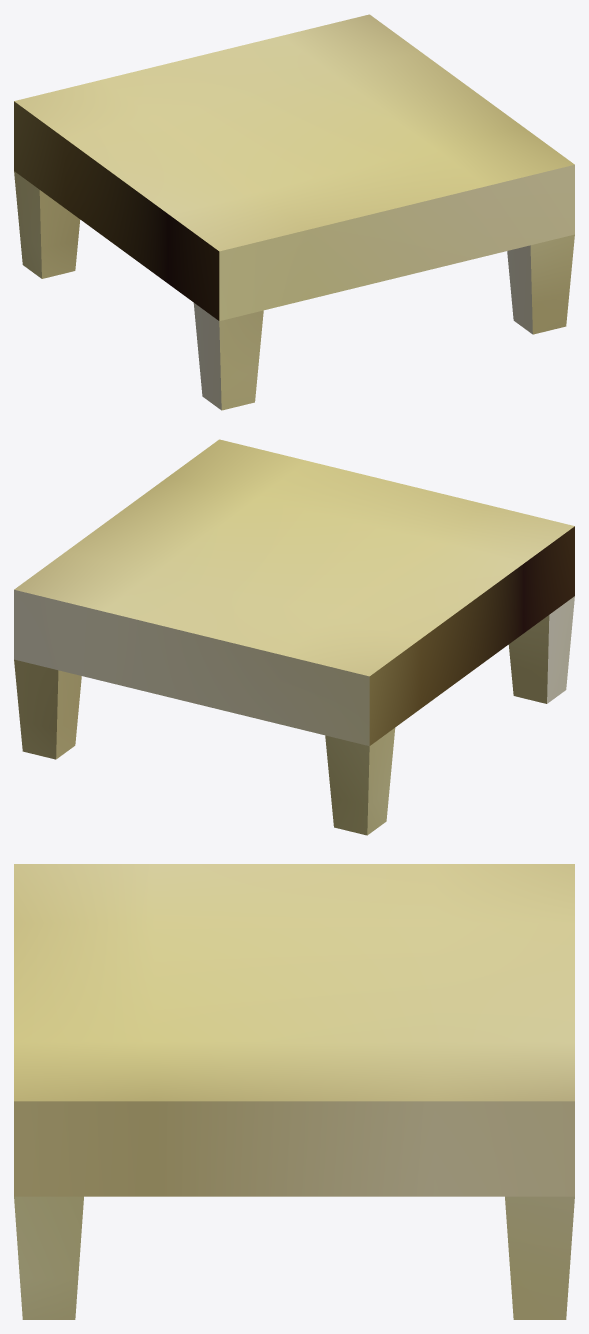
Rendered from small table.fbx.
The picture shows the model from 3 angles, top to bottom: view 1: azimuth 30°, elevation 25°; view 2: azimuth 150°, elevation 25°; view 3: azimuth 270°, elevation 25°; orthographic projection. The views are drawn at different scales.
Visible parts, largest first — view 1: cuboid; view 2: cuboid; view 3: cuboid.
Boxes of the visible parts, x1,y1,x2,y2 form: cuboid: [14, 14, 574, 410]; cuboid: [14, 439, 574, 835]; cuboid: [14, 864, 574, 1319].
Bounding box in the file's own units: 100 × 43.75 × 100.
Materials: 1 (1 with a texture image).
